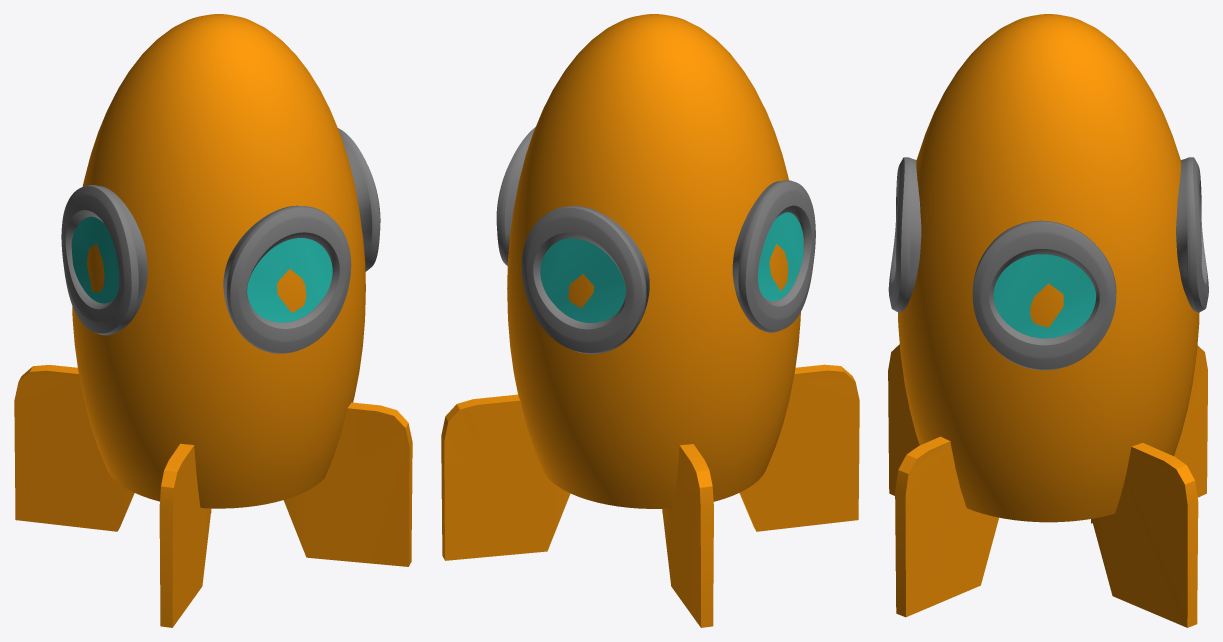
The model's file is rocket_new_rocket.FBX.
3 views of the same model, side by side, from view 1: azimuth 30°, elevation 25°; view 2: azimuth 150°, elevation 25°; view 3: azimuth 270°, elevation 25° (orthographic). The views are drawn at different scales.
Parts seen in each view (by area): view 1: Sphere001; view 2: Sphere001; view 3: Sphere001.
Part boxes in pixels (bbox=[...]): Sphere001: bbox=[14, 14, 412, 627]; Sphere001: bbox=[441, 14, 859, 627]; Sphere001: bbox=[888, 14, 1208, 627].
Bounding box in the file's own units: 47.49 × 84.51 × 45.88.
